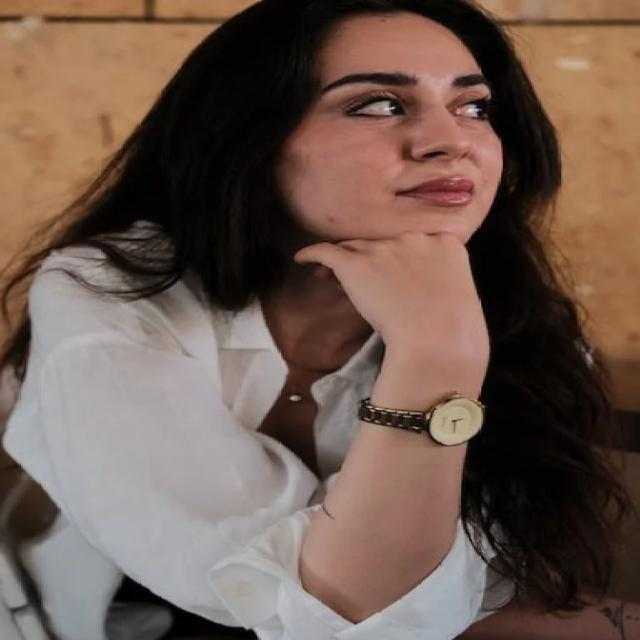Watch: (352, 392, 494, 450)
